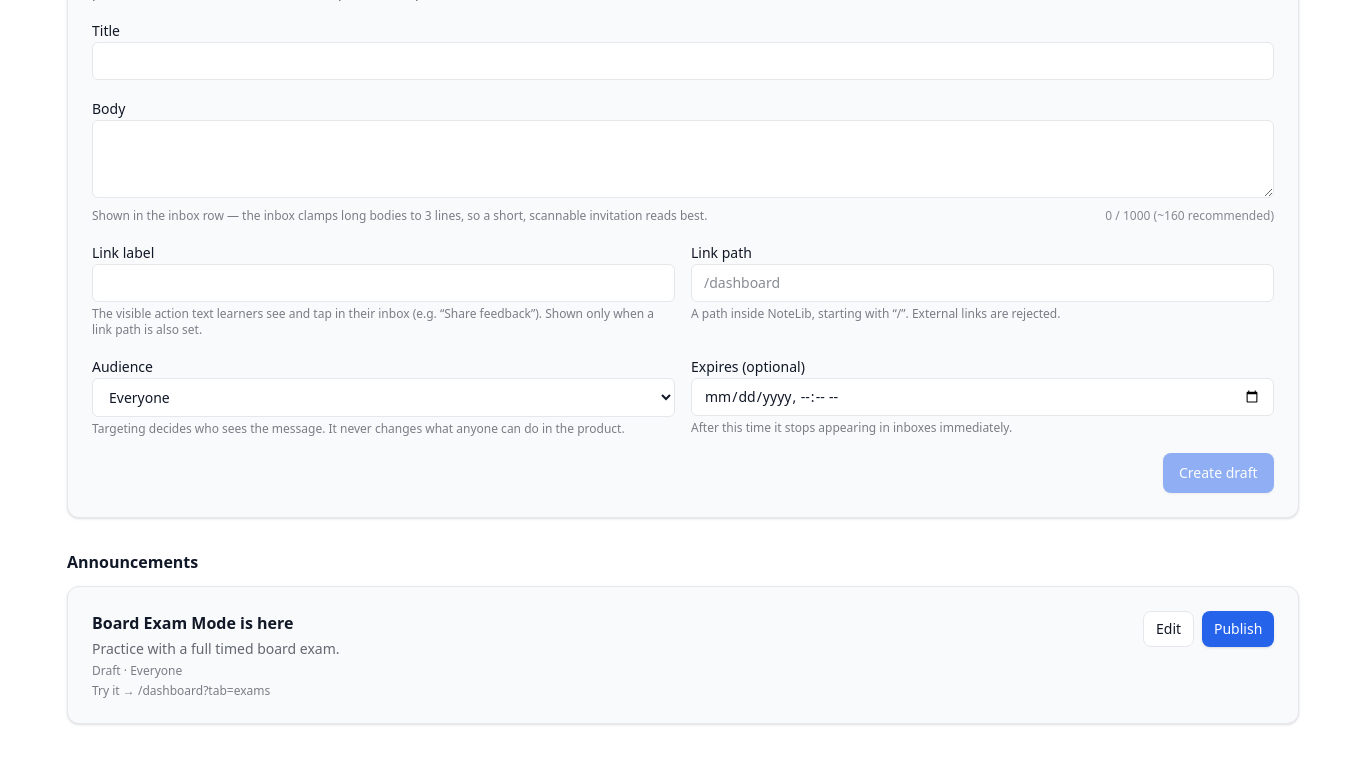
AdminAnnouncementsPage publish feedback › preserves the retry affordance when delivery cannot be queued
(page scrolled)
Expected: the text "Board Exam Mode is here" is shown, left=92, top=612, right=293, bottom=634
Click the button "Publish". click: (1238, 628)
box: left=1202, top=610, right=1274, bottom=646
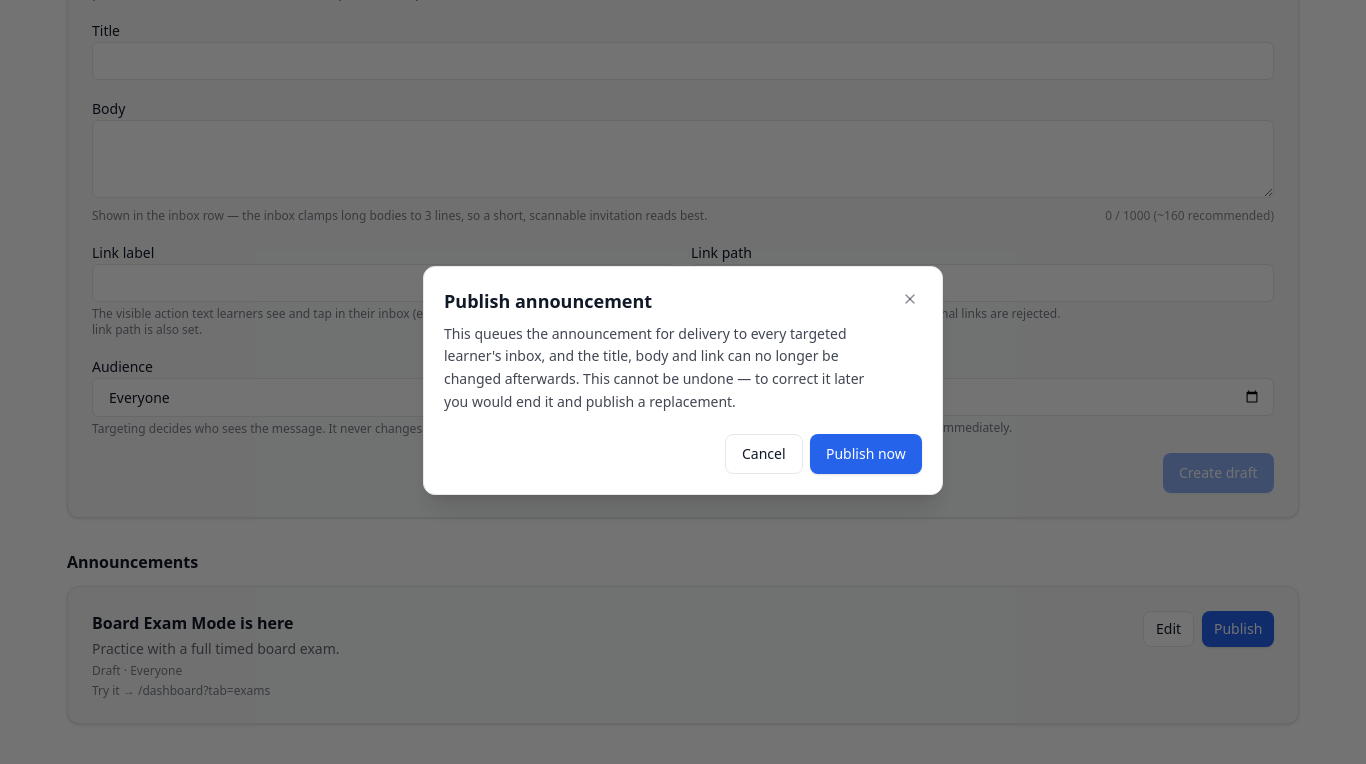
Click the button "Publish now". click: (866, 454)
box: left=810, top=434, right=922, bottom=474
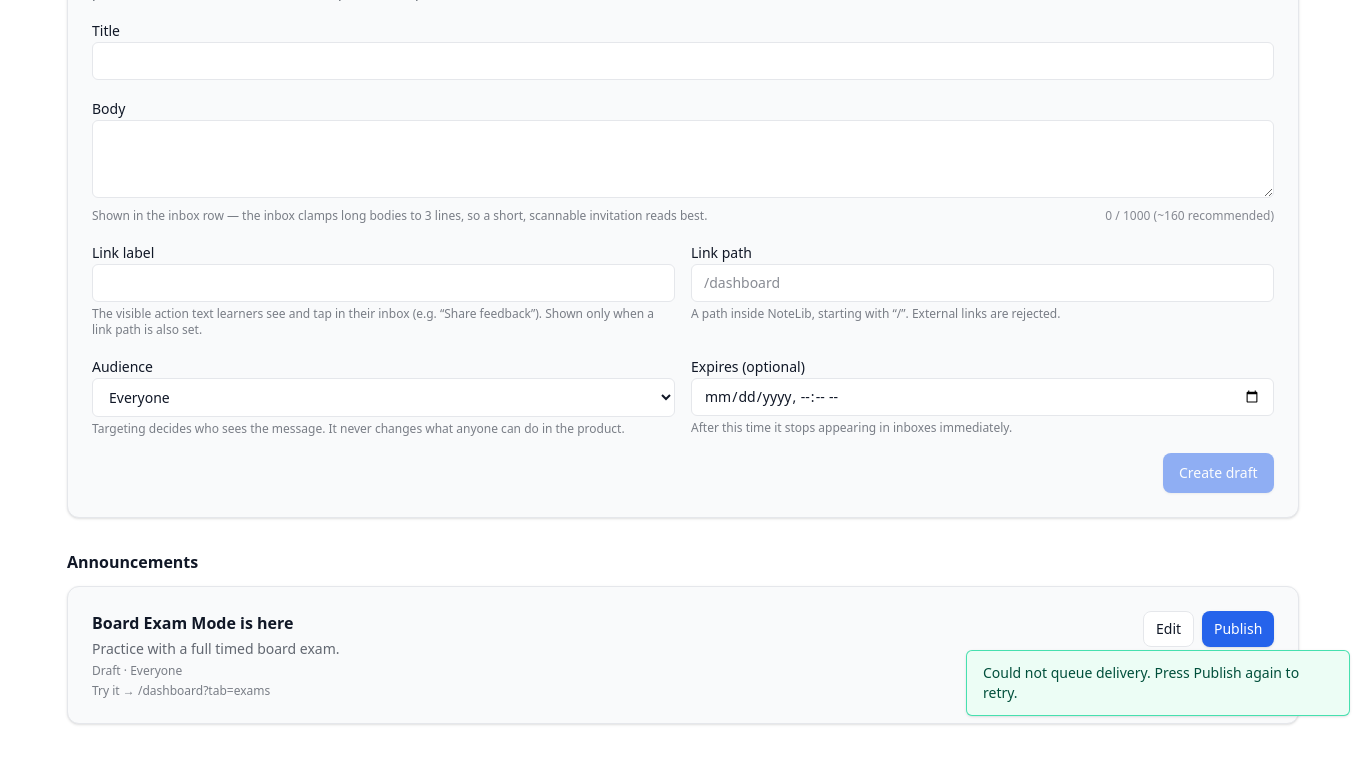
Now the text "Could not queue delivery. Press Publish again to retry." is shown, box left=966, top=650, right=1350, bottom=716
